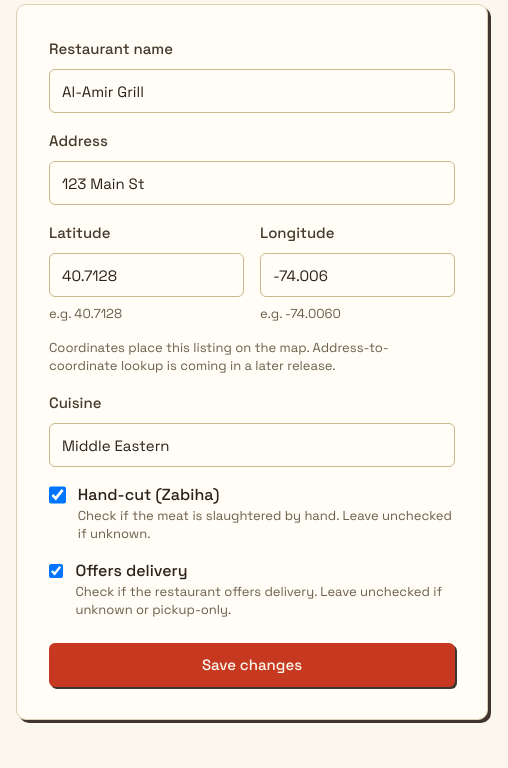
Test case: EditListingPage (sc-23/47/48) — prefill + save wiring › maps a save-time 404 to a removed-listing message
The image size is (508, 768).
(page scrolled)
What coordinates should you click on to do the following:
click the button "Save changes"
I would click on:
 (252, 665)
Its box is [49,643,455,687].
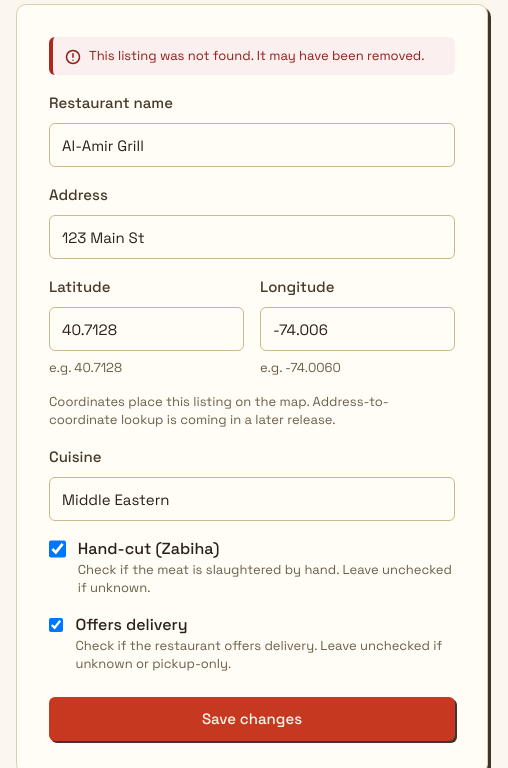
Expected: the message shows "This listing was not found.", [89,47,424,64]
